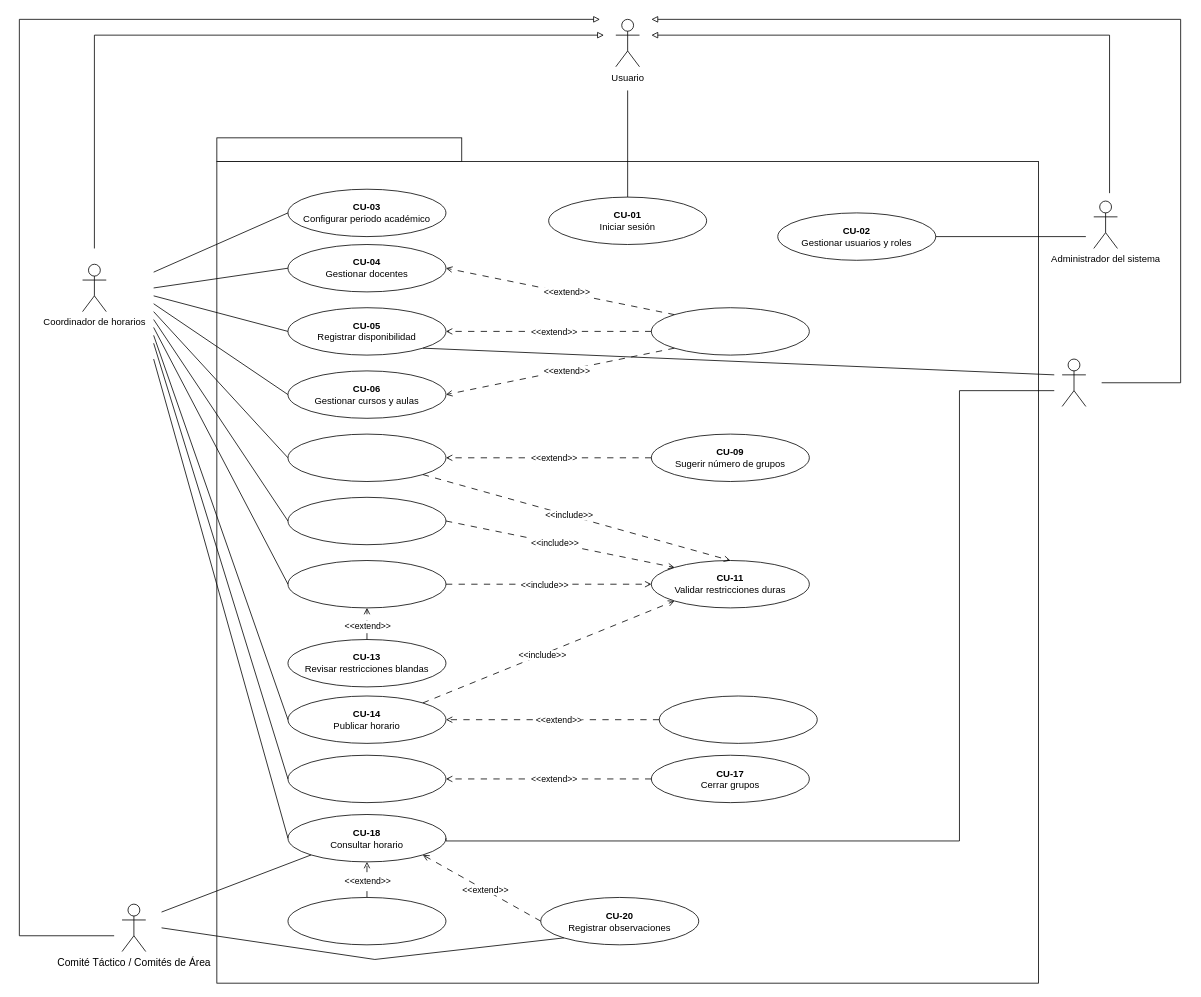
The diagram is 1201 pixels wide and 997 high, and some of its shapes have lost their labels. Here are the shapes that lost their labels. From the top down, the centre of each, then its label:
At point (339, 149): "Sistema de programación de horarios de clases".
At point (730, 331): "CU-07 Importar datos del periodo".
At point (1073, 382): "Docente".
At point (366, 457): "CU-08 Gestionar grupos".
At point (366, 521): "CU-10 Generar propuesta de horario".
At point (366, 584): "CU-12 Ajustar horario".
At point (737, 719): "CU-15 Restaurar versión del horario".
At point (366, 778): "CU-16 Consultar reportes".
At point (366, 921): "CU-19 Exportar horario".
